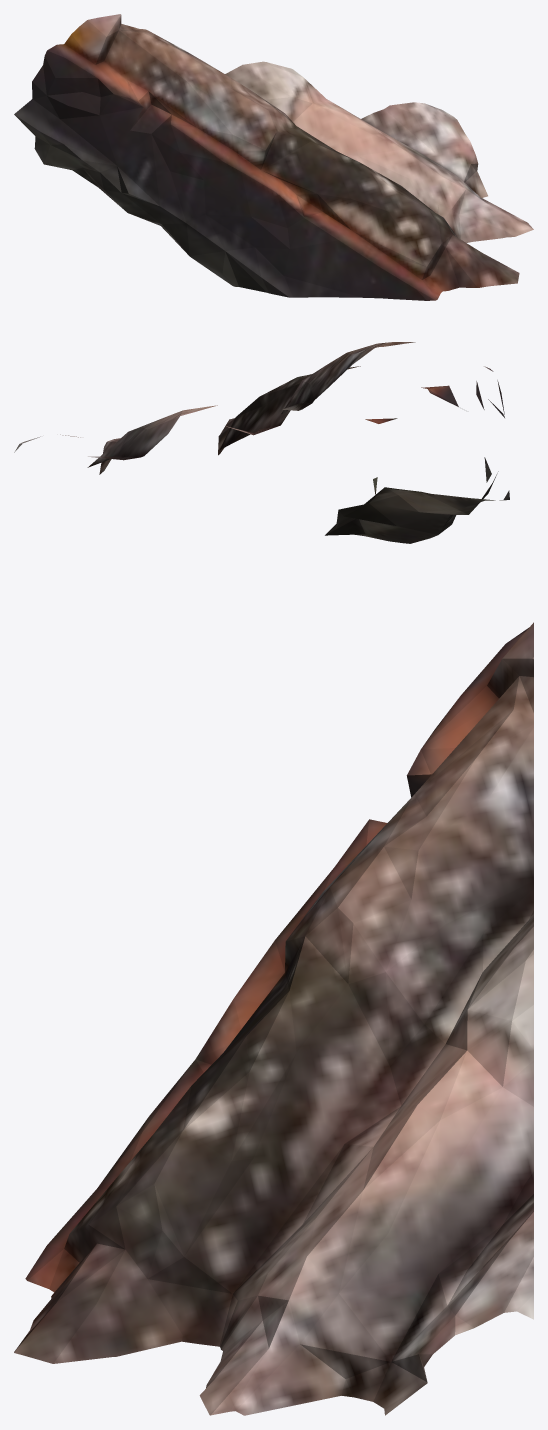
3 renders of one model, top to bottom at view 1: azimuth 30°, elevation 25°; view 2: azimuth 150°, elevation 25°; view 3: azimuth 270°, elevation 25°, orthographic. The views are drawn at different scales.
Size of the model in its own units: 0.9638 by 0.4997 by 0.5186.
1 material, 1 textured.
